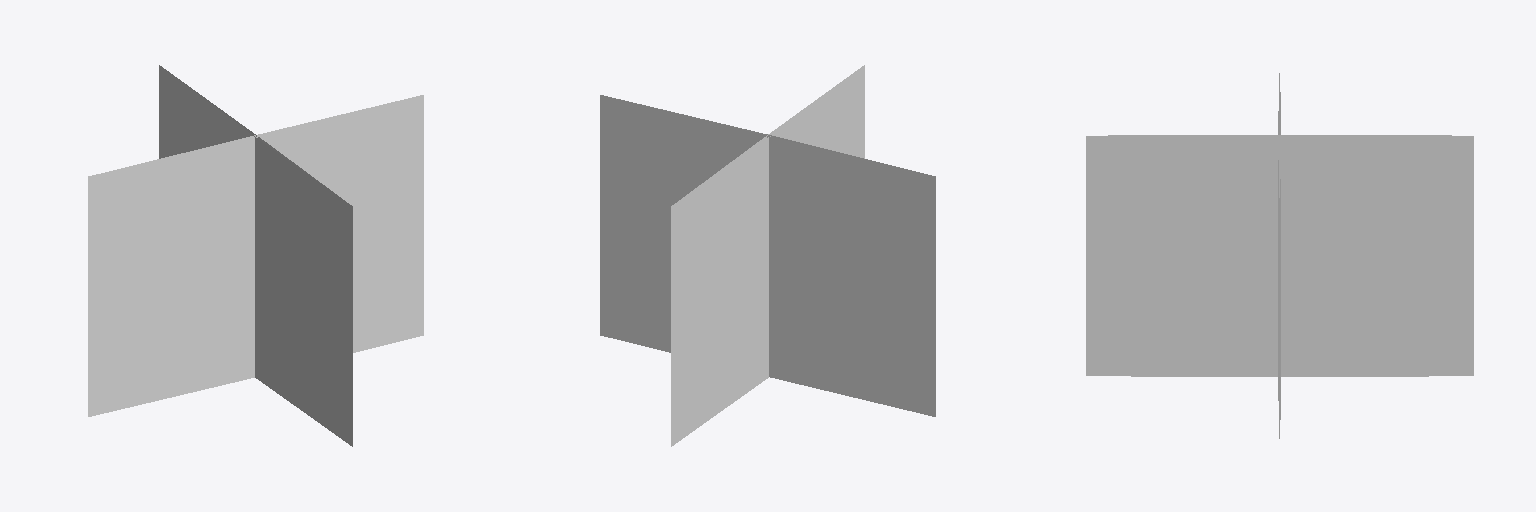
The model's file is Lily_of_the_Valley_Fan_0.obj.
The picture shows the model from 3 angles: view 1: azimuth 30°, elevation 25°; view 2: azimuth 150°, elevation 25°; view 3: azimuth 270°, elevation 25°; orthographic projection.
Parts seen in each view (by area): view 1: CreateFan; view 2: CreateFan; view 3: CreateFan.
Part boxes in pixels (left/top/right/bottom): CreateFan: left=88, top=65, right=423, bottom=446; CreateFan: left=600, top=65, right=935, bottom=446; CreateFan: left=1086, top=73, right=1473, bottom=438.
Bounding box in the file's own units: 0.366 × 0.25 × 0.366.